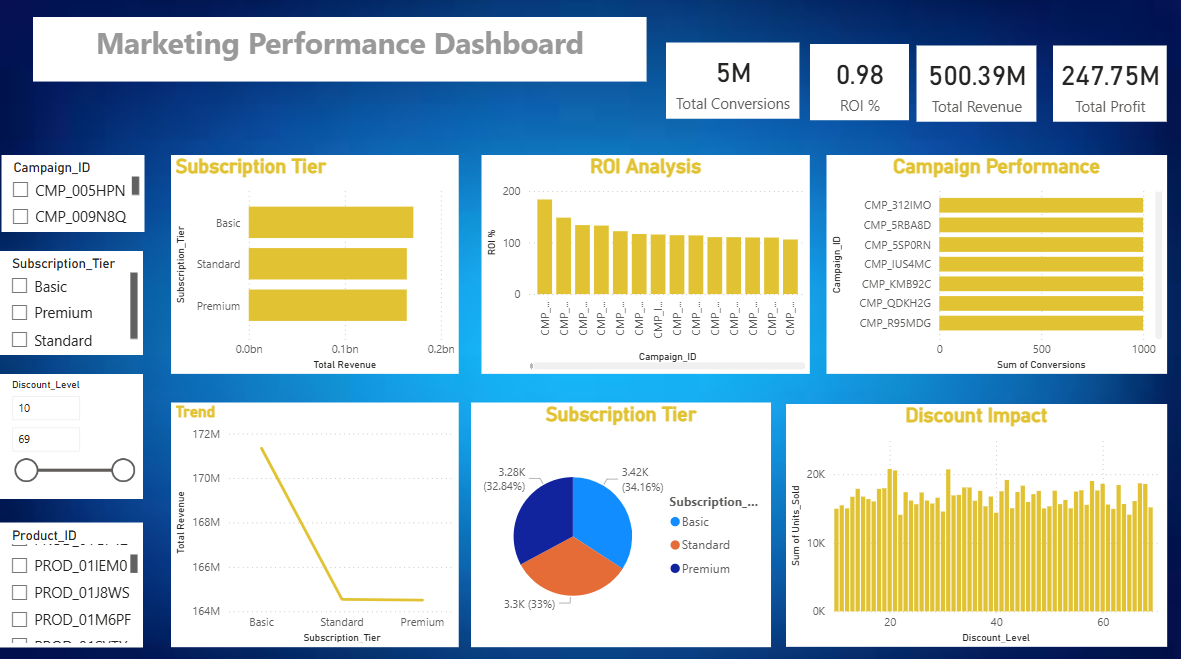

This screenshot's page, from the dashboard's own definition file:
{"tool":"powerbi","page":{"name":"Page 1","canvas":[1280,720],"ordinal":0},"visuals":[{"type":"card","fields":{"Values":["marketing_and_product_performance.Total Revenue"]},"box":[722.2,50.4,130.1,83],"z":1000},{"type":"card","fields":{"Values":["marketing_and_product_performance.Total Profit"]},"box":[866.9,50.4,123.6,83],"z":2000},{"type":"card","fields":{"Values":["marketing_and_product_performance.ROI %"]},"box":[1005.2,50.4,107.4,83],"z":3000},{"type":"card","fields":{"Values":["marketing_and_product_performance.Total Conversions"]},"box":[1120.7,50.4,144.8,83],"z":4000},{"type":"barChart","title":"Campaign Performance","fields":{"Category":["marketing_and_product_performance.Campaign_ID"],"Y":["Sum(marketing_and_product_performance.Conversions)"]},"box":[896.2,172.4,369.2,237.5],"z":5000},{"type":"clusteredBarChart","title":"Subscription Tier","fields":{"Category":["marketing_and_product_performance.Subscription_Tier"],"Y":["marketing_and_product_performance.Total Revenue"]},"box":[185.4,172.4,312.3,237.5],"z":6000},{"type":"columnChart","title":"Discount Impact","fields":{"Category":["marketing_and_product_performance.Discount_Level"],"Y":["Sum(marketing_and_product_performance.Units_Sold)"]},"box":[852.3,442.4,413.1,263.5],"z":7000},{"type":"lineChart","title":"Trend","fields":{"Category":["marketing_and_product_performance.Subscription_Tier"],"Y":["marketing_and_product_performance.Total Revenue"]},"box":[185.4,440.8,312.3,265.1],"z":8000},{"type":"clusteredColumnChart","title":"ROI Analysis","fields":{"Category":["marketing_and_product_performance.Campaign_ID"],"Y":["marketing_and_product_performance.ROI %"]},"box":[522.1,172.4,356.2,237.5],"z":9000},{"type":"slicer","fields":{"Values":["marketing_and_product_performance.Campaign_ID"]},"box":[1.6,172.4,154.5,83],"z":10000},{"type":"slicer","fields":{"Values":["marketing_and_product_performance.Subscription_Tier"]},"box":[0,276.5,154.5,112.2],"z":11000},{"type":"slicer","fields":{"Values":["marketing_and_product_performance.Discount_Level"]},"box":[0,409.9,154.5,135],"z":12000},{"type":"slicer","fields":{"Values":["marketing_and_product_performance.Product_ID"]},"box":[0,570.9,154.5,135],"z":13000},{"type":"pieChart","title":"Revenue Subscription Tier","fields":{"Category":["marketing_and_product_performance.Subscription_Tier"],"Y":["CountNonNull(marketing_and_product_performance.Customer_ID)"]},"box":[510.7,440.8,325.3,265.1],"z":14000},{"type":"textbox","box":[35.8,22.8,665.3,69.9],"z":14001}]}

Visuals, with their boxes in screenshot pixels (x1, y1, x2, y2), scaled from the page's 1280x720 canvas onto the 1181x659 screenshot:
card - marketing_and_product_performance.Total Revenue: x1=666, y1=46, x2=786, y2=122
card - marketing_and_product_performance.Total Profit: x1=800, y1=46, x2=914, y2=122
card - marketing_and_product_performance.ROI %: x1=927, y1=46, x2=1027, y2=122
card - marketing_and_product_performance.Total Conversions: x1=1034, y1=46, x2=1168, y2=122
"Campaign Performance" barChart: x1=827, y1=158, x2=1168, y2=375
"Subscription Tier" clusteredBarChart: x1=171, y1=158, x2=459, y2=375
"Discount Impact" columnChart: x1=786, y1=405, x2=1168, y2=646
"Trend" lineChart: x1=171, y1=403, x2=459, y2=646
"ROI Analysis" clusteredColumnChart: x1=482, y1=158, x2=810, y2=375
slicer - marketing_and_product_performance.Campaign_ID: x1=1, y1=158, x2=144, y2=234
slicer - marketing_and_product_performance.Subscription_Tier: x1=0, y1=253, x2=143, y2=356
slicer - marketing_and_product_performance.Discount_Level: x1=0, y1=375, x2=143, y2=499
slicer - marketing_and_product_performance.Product_ID: x1=0, y1=523, x2=143, y2=646
"Revenue Subscription Tier" pieChart: x1=471, y1=403, x2=771, y2=646
textbox: x1=33, y1=21, x2=647, y2=85
